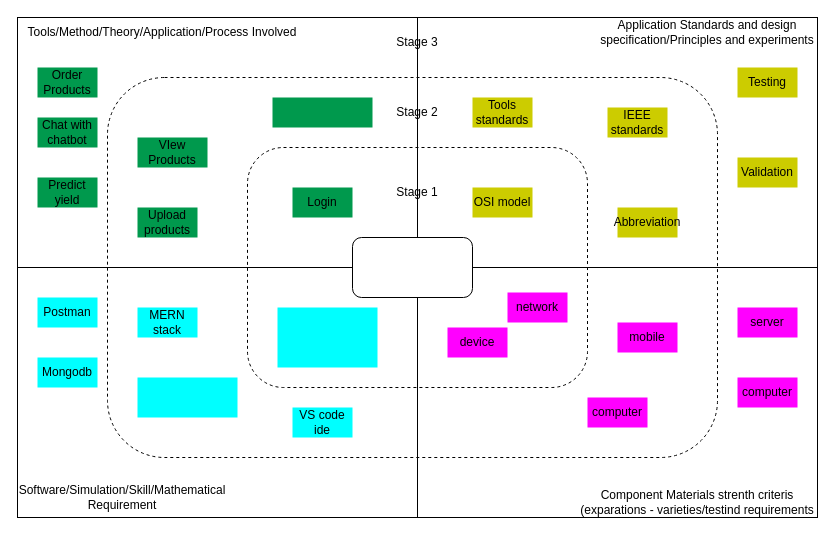
Image size: 836x536. Some labels were removed from this diagram. Each missing label, with the centre of its shape:
"Add to card" belongs at pixel 322 112.
"Knowledge of desinging website" belongs at pixel 187 397.
"Purpose/Producrt Concept AgriMitra" belongs at pixel 412 267.
"Understanding of client server architecture" belongs at pixel 327 337.
